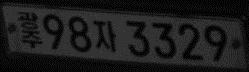2: (177, 22, 204, 61)
3: (125, 19, 150, 57), (152, 21, 176, 59)
8: (67, 15, 92, 53)
9: (204, 24, 229, 62), (42, 13, 65, 50)
광주_V: (17, 10, 43, 49)
자: (92, 19, 118, 52)
